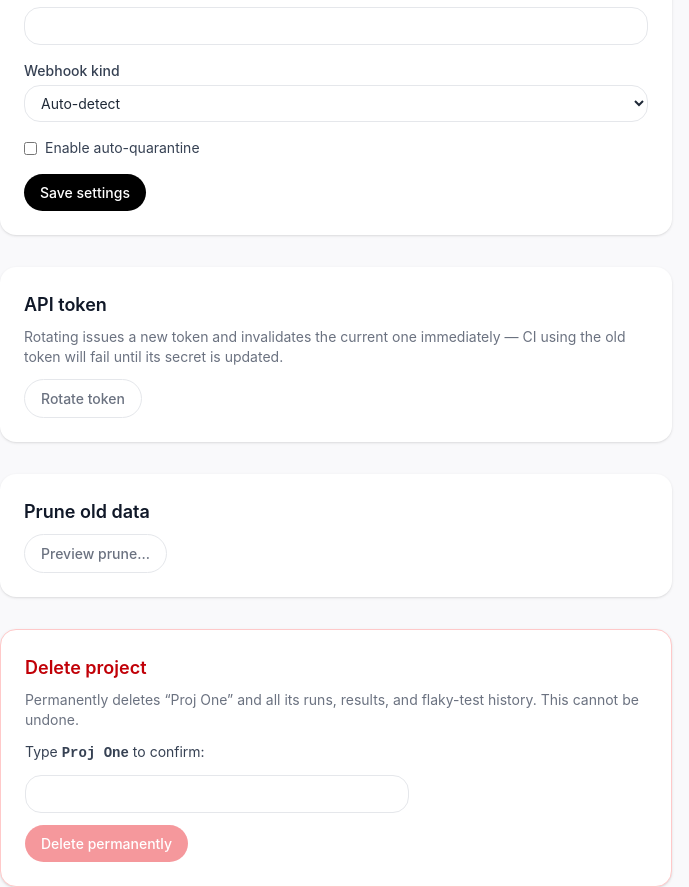
Test case: admin/[projectId]/+page lifecycle › keeps Delete disabled until the exact name is typed
This screenshot has width=689, height=887.
(page scrolled)
Expected: the button "Delete permanently" is disabled, [25, 825, 188, 862]
Type "wrong" into the field named "Type the project name to confirm". click: coordinates (217, 794)
box: [25, 775, 409, 813]
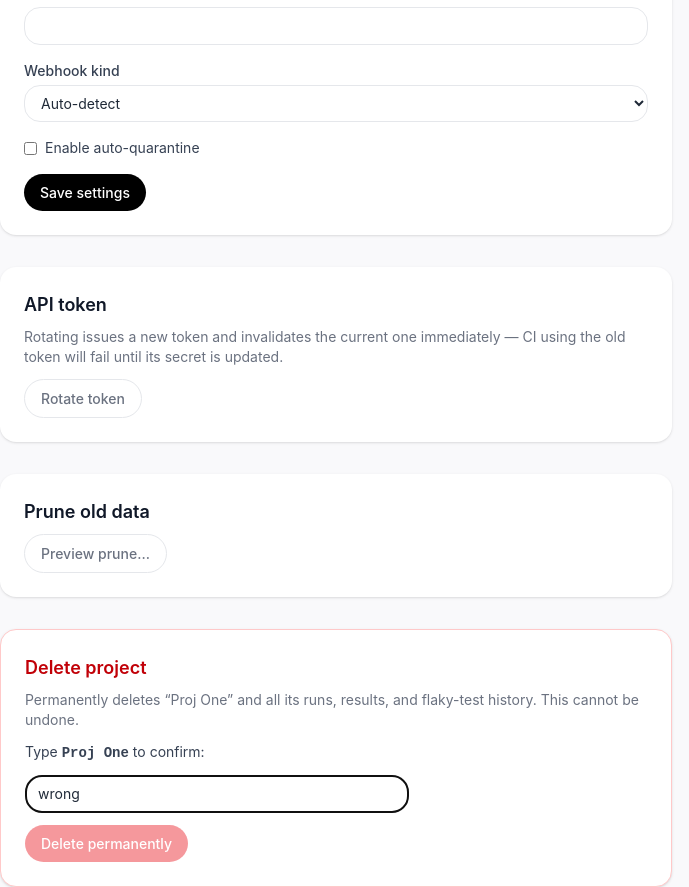
Expected: the button "Delete permanently" is disabled, [25, 825, 188, 862]
Replace the text in the field named "Type the project name to confirm" with "Proj One". click: coordinates (217, 794)
box: [25, 775, 409, 813]
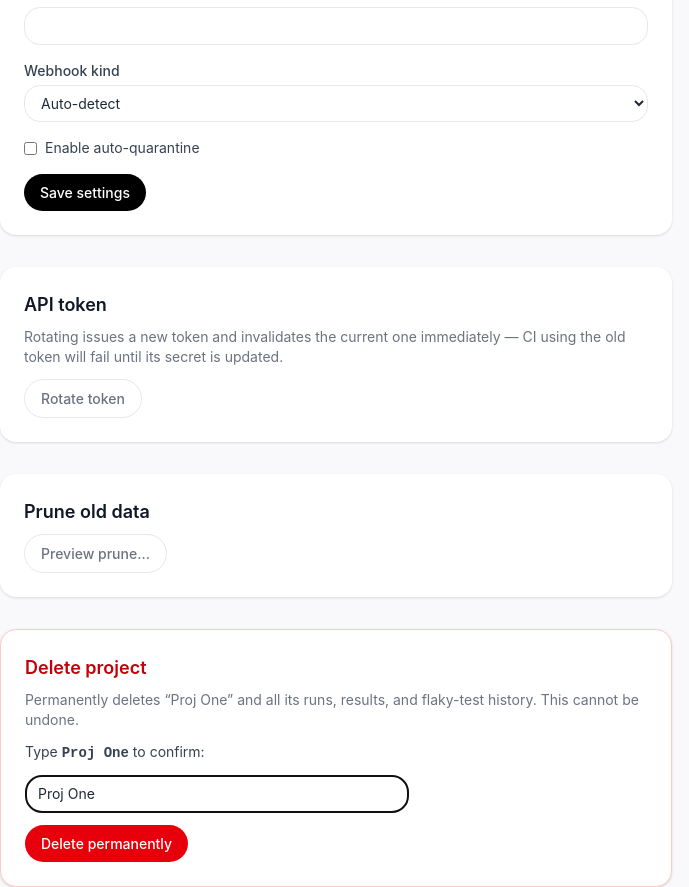
Expected: the button "Delete permanently" is enabled, [25, 825, 188, 862]
